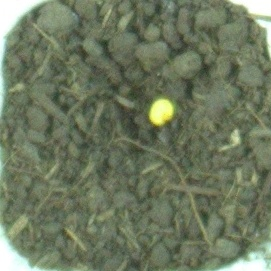chilli seed: (148, 97, 175, 126)
